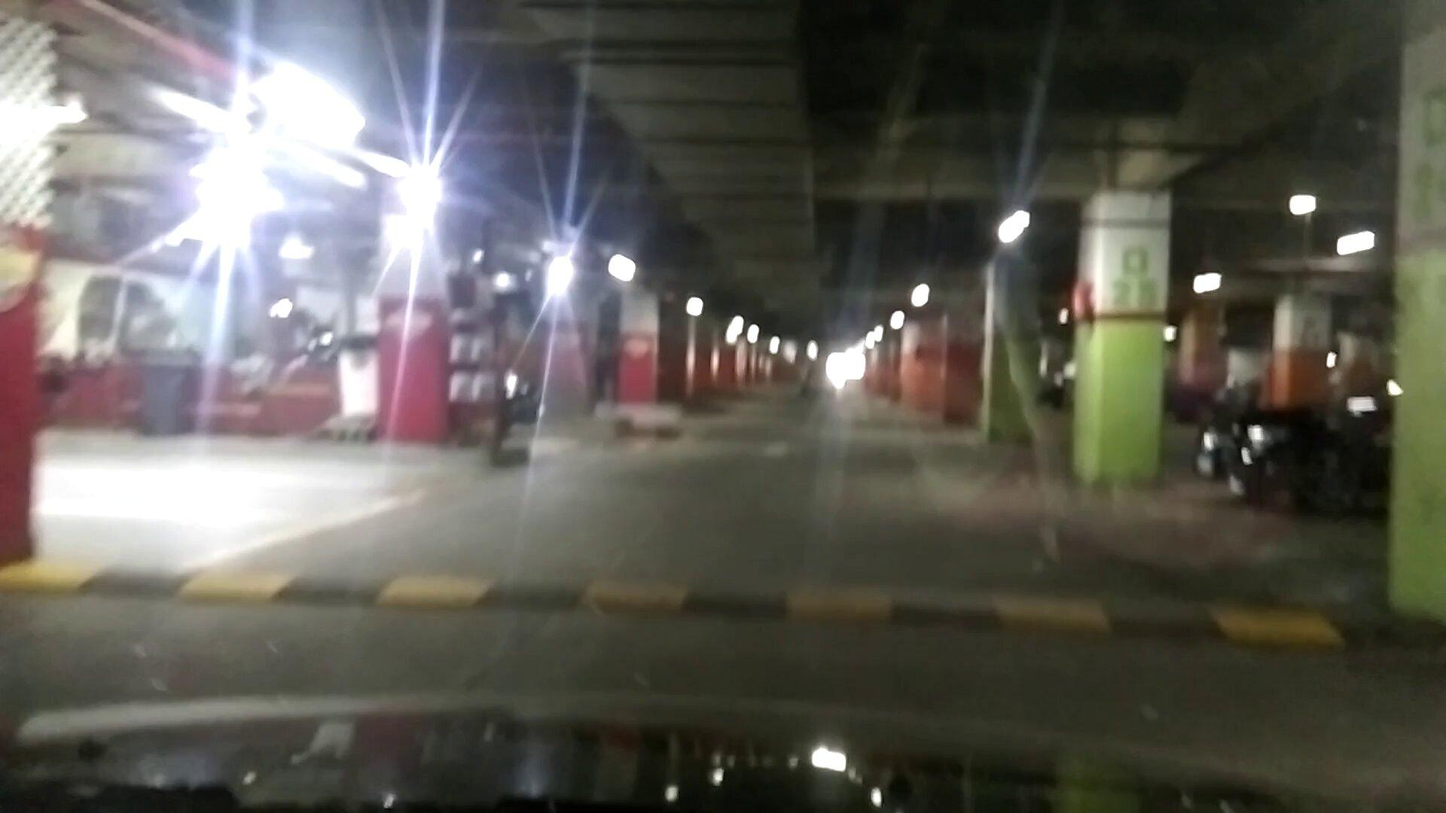Bump: (13, 533, 1446, 666)
